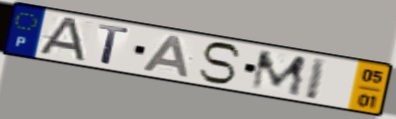A: (34, 16, 89, 64), (139, 34, 191, 80)
I: (302, 55, 330, 102)
M: (248, 49, 310, 98)
S: (196, 41, 244, 86)
T: (96, 22, 131, 67)
